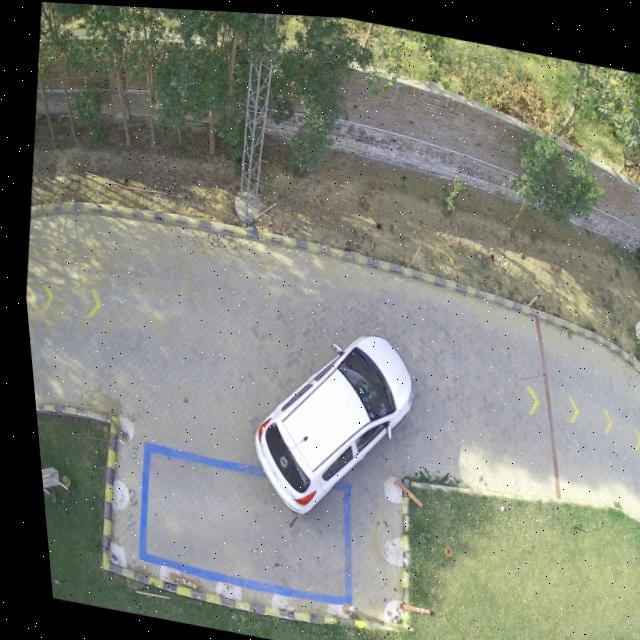car: (247, 333, 407, 514)
